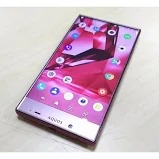sony: (12, 12, 144, 150)
